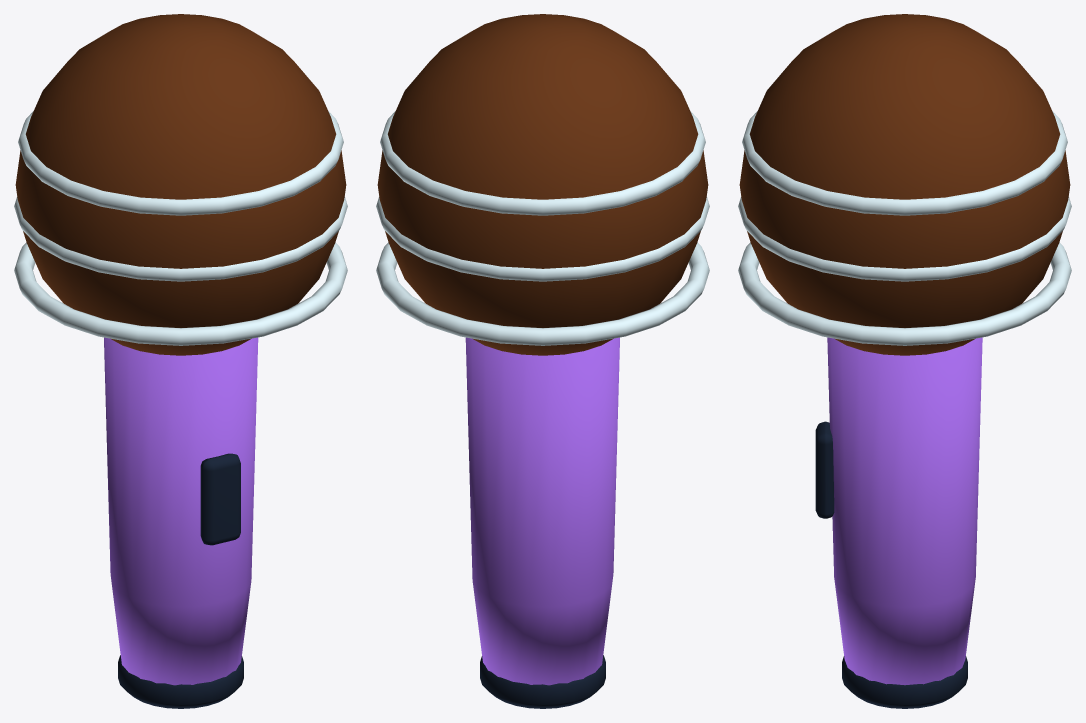
Rendered from microphone.fbx.
The picture shows the model from 3 angles, left to right: view 1: azimuth 30°, elevation 25°; view 2: azimuth 150°, elevation 25°; view 3: azimuth 270°, elevation 25°; orthographic projection.
Parts seen in each view (by area): view 1: microphone; view 2: microphone; view 3: microphone.
Boxes of the visible parts, left/top/right/bottom form: microphone: left=14, top=14, right=347, bottom=708; microphone: left=376, top=14, right=709, bottom=708; microphone: left=738, top=14, right=1071, bottom=708.
Size of the model in its own units: 45.96 by 100 by 45.96.
1 material, 1 textured.
